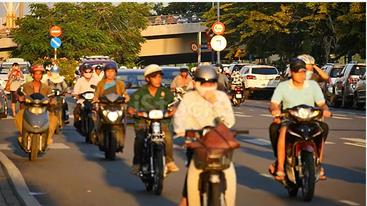motorcycle: (270, 94, 339, 201), (171, 118, 251, 206), (128, 86, 187, 200), (15, 83, 61, 166), (91, 91, 132, 160), (72, 79, 103, 138)
